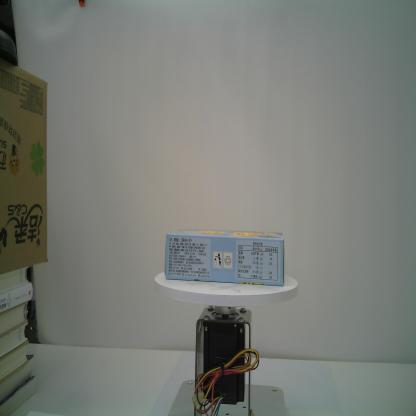Dessert: (164, 228, 287, 286)
